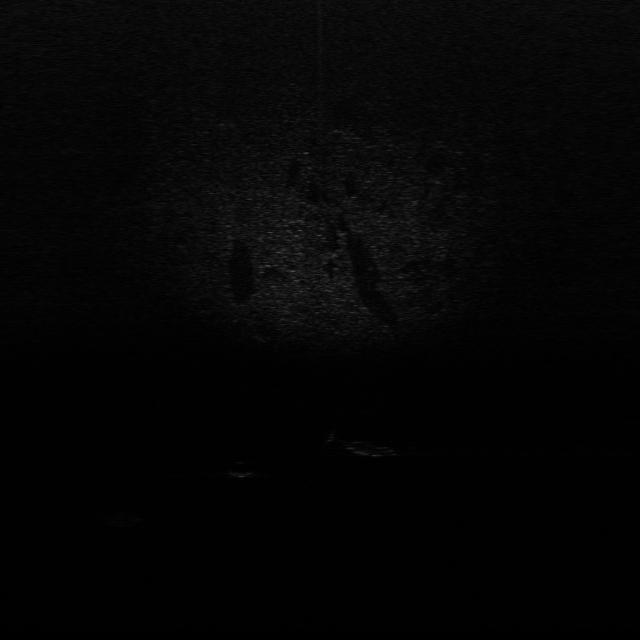ball: (230, 458, 256, 480)
circle cage: (94, 507, 147, 528)
human body: (324, 428, 404, 461)
